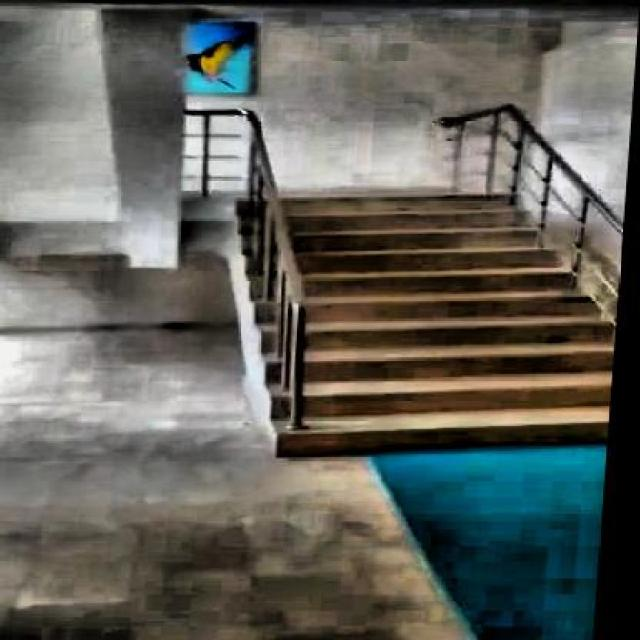stair: (212, 196, 626, 458)
